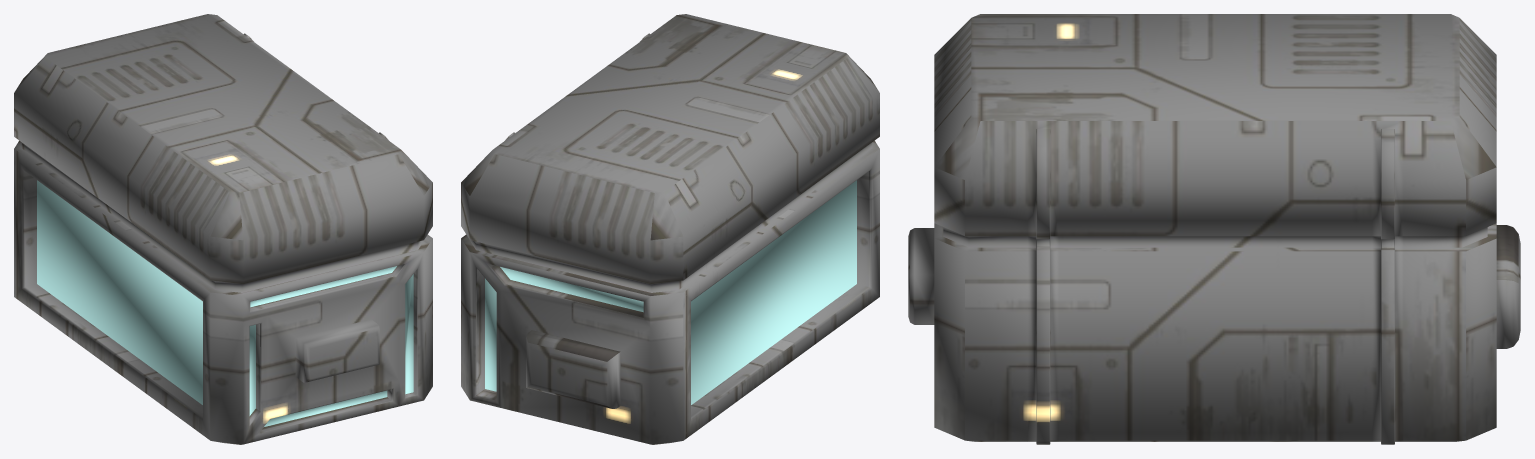
3 views of the same model, side by side, from view 1: azimuth 30°, elevation 25°; view 2: azimuth 150°, elevation 25°; view 3: azimuth 270°, elevation 25° (orthographic). The views are drawn at different scales.
Visible parts, largest first — view 1: Cube; view 2: Cube; view 3: Cube.
Part boxes in pixels (box(x1,y1,x2,y2)): Cube: box(14, 14, 432, 444); Cube: box(461, 14, 879, 444); Cube: box(908, 14, 1520, 444).
Bounding box in the file's own units: 0.4084 × 0.43 × 0.7564.
2 materials, 1 textured.
